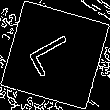L_NE: (25, 29, 85, 81)
